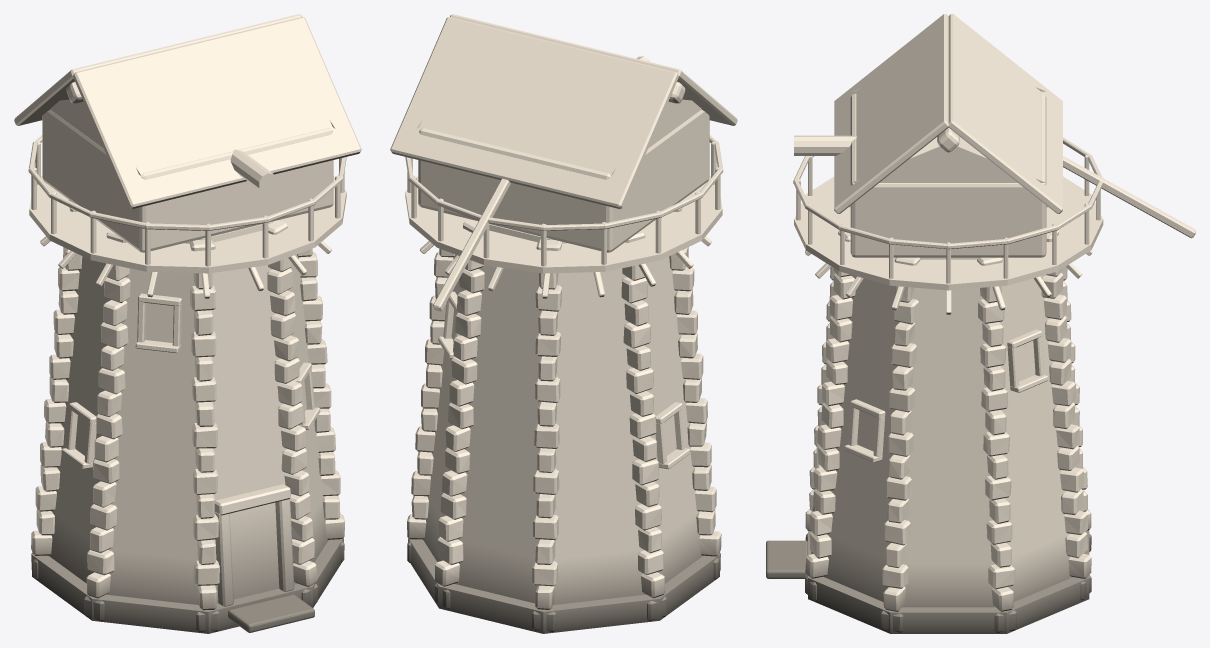
The model's file is SM_VK_Windmill.fbx.
3 views of the same model, side by side, from view 1: azimuth 30°, elevation 25°; view 2: azimuth 150°, elevation 25°; view 3: azimuth 270°, elevation 25° (orthographic). The views are drawn at different scales.
Visible parts, largest first — view 1: SM_VK_Windmill.001; view 2: SM_VK_Windmill.001; view 3: SM_VK_Windmill.001.
Part boxes in pixels (x1=…): SM_VK_Windmill.001: x1=14, y1=14, x2=361, y2=633; SM_VK_Windmill.001: x1=390, y1=14, x2=737, y2=633; SM_VK_Windmill.001: x1=766, y1=14, x2=1195, y2=633.
Bounding box in the file's own units: 6.63 × 11.94 × 9.18.
